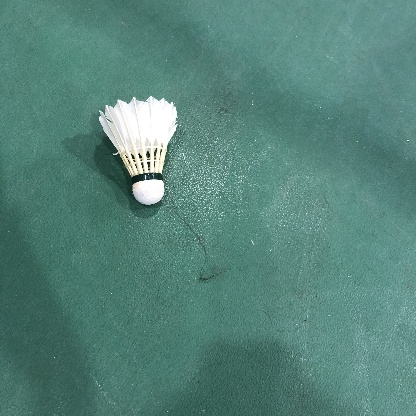ball_single: (99, 96, 178, 205)
